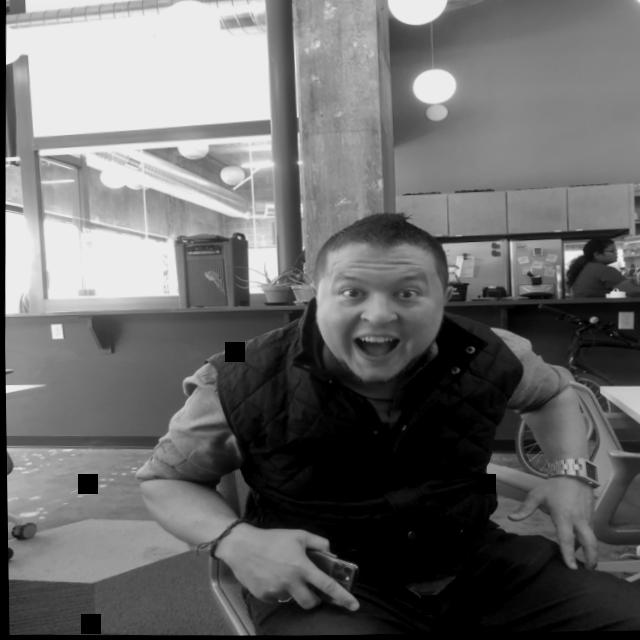NO-Mask: (310, 250, 445, 390), (597, 247, 618, 265)
